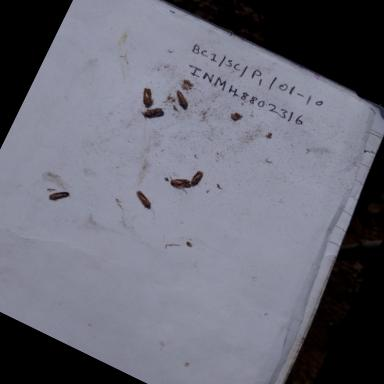pbw: (163, 82, 202, 118), (180, 165, 216, 197), (127, 189, 163, 221), (133, 98, 166, 127), (42, 182, 71, 208), (164, 170, 194, 195), (134, 84, 160, 110)
